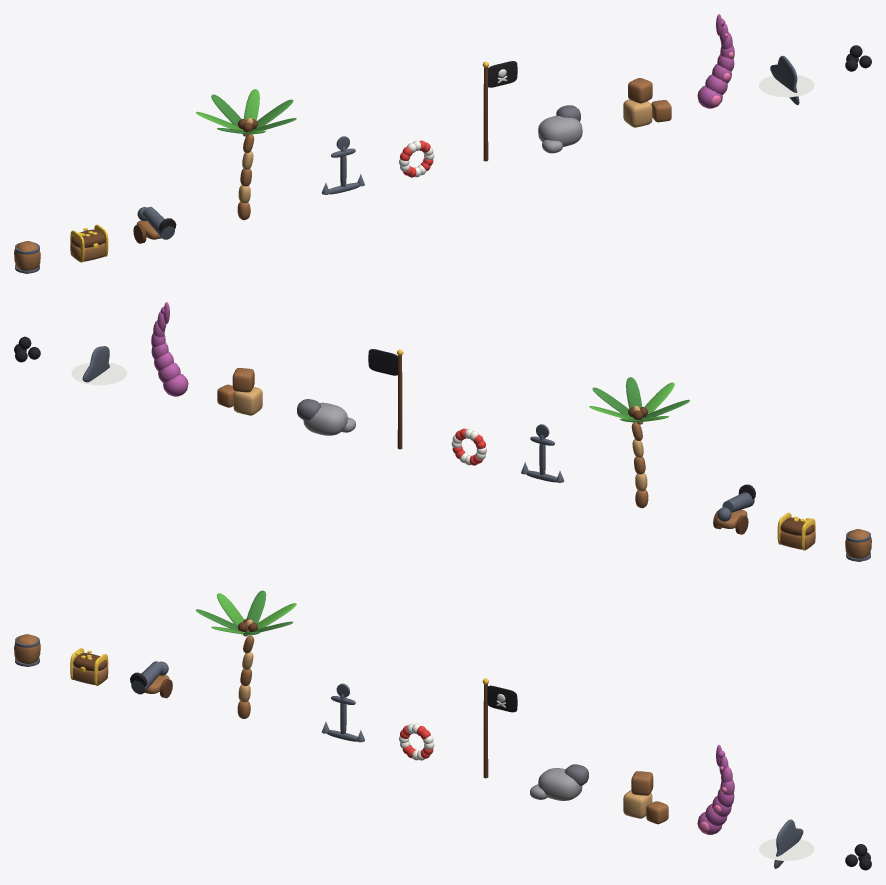
Rendered from Deco_Arena.fbx.
The picture shows the model from 3 angles, top to bottom: view 1: azimuth 30°, elevation 25°; view 2: azimuth 150°, elevation 25°; view 3: azimuth 330°, elevation 25°; orthographic projection.
Visible parts, largest first — view 1: Palmera, Tentaculo, Cajas, Roca, Aleta, Bandera, Cofre, Canon, Ancla, Salvavidas, Barril; view 2: Palmera, Tentaculo, Roca, Cajas, Aleta, Canon, Bandera, Cofre, Ancla, Salvavidas, Barril; view 3: Palmera, Roca, Cajas, Tentaculo, Aleta, Bandera, Cofre, Canon, Salvavidas, Ancla, Barril.
Boxes of the visible parts, x1=… form: Palmera: x1=196, y1=89, x2=296, y2=220; Tentaculo: x1=697, y1=14, x2=734, y2=108; Cajas: x1=623, y1=78, x2=671, y2=127; Roca: x1=538, y1=105, x2=582, y2=153; Aleta: x1=759, y1=55, x2=814, y2=104; Bandera: x1=482, y1=61, x2=517, y2=161; Cofre: x1=70, y1=224, x2=108, y2=262; Canon: x1=133, y1=206, x2=176, y2=243; Ancla: x1=321, y1=136, x2=364, y2=194; Salvavidas: x1=399, y1=140, x2=434, y2=177; Barril: x1=14, y1=241, x2=40, y2=273; Palmera: x1=589, y1=377, x2=689, y2=508; Tentaculo: x1=151, y1=302, x2=188, y2=396; Roca: x1=297, y1=399, x2=355, y2=435; Cajas: x1=217, y1=368, x2=262, y2=415; Aleta: x1=71, y1=346, x2=126, y2=385; Canon: x1=713, y1=484, x2=755, y2=534; Bandera: x1=368, y1=349, x2=403, y2=449; Cofre: x1=777, y1=512, x2=815, y2=550; Ancla: x1=521, y1=424, x2=564, y2=482; Salvavidas: x1=451, y1=428, x2=486, y2=465; Barril: x1=845, y1=529, x2=871, y2=561; Palmera: x1=196, y1=590, x2=296, y2=718; Roca: x1=530, y1=764, x2=588, y2=800; Cajas: x1=623, y1=771, x2=668, y2=824; Tentaculo: x1=697, y1=745, x2=734, y2=834; Aleta: x1=759, y1=819, x2=814, y2=868; Bandera: x1=482, y1=678, x2=517, y2=778; Cofre: x1=70, y1=648, x2=108, y2=685; Canon: x1=130, y1=661, x2=172, y2=698; Salvavidas: x1=399, y1=723, x2=434, y2=760; Ancla: x1=321, y1=683, x2=364, y2=742; Barril: x1=14, y1=634, x2=40, y2=666.
Size of the model in its own units: 24.51 by 3.24 by 2.53.
Materials: 2 (2 with a texture image).
